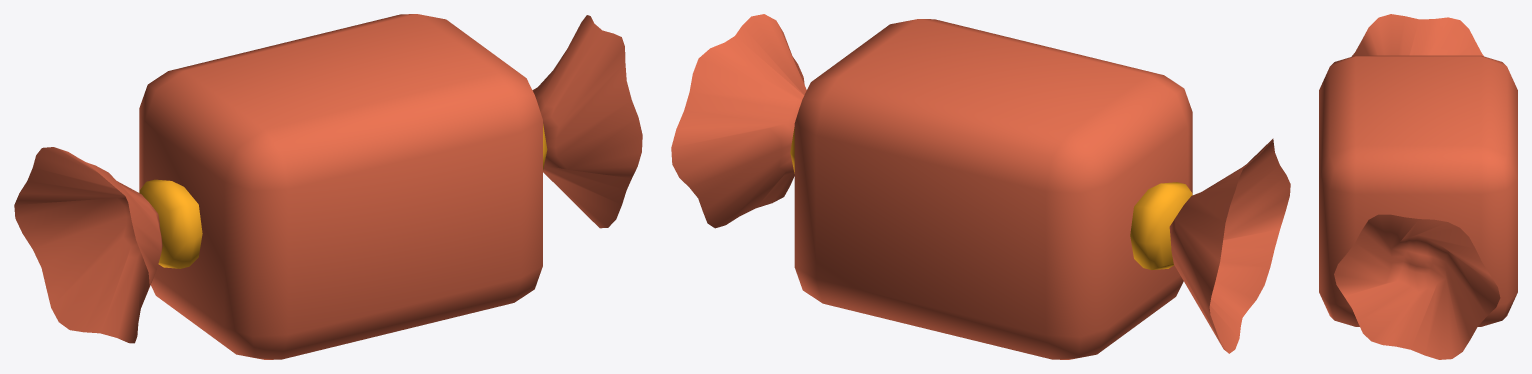
Rendered from Square.fbx.
The picture shows the model from 3 angles, left to right: view 1: azimuth 30°, elevation 25°; view 2: azimuth 150°, elevation 25°; view 3: azimuth 270°, elevation 25°; orthographic projection. The views are drawn at different scales.
Parts seen in each view (by area): view 1: Square; view 2: Square; view 3: Square.
Boxes of the visible parts, x1,y1,x2,y2 form: Square: [14, 14, 642, 359]; Square: [671, 14, 1290, 359]; Square: [1319, 14, 1517, 359].
Size of the model in its own units: 13.6 by 5.42 by 5.42.
